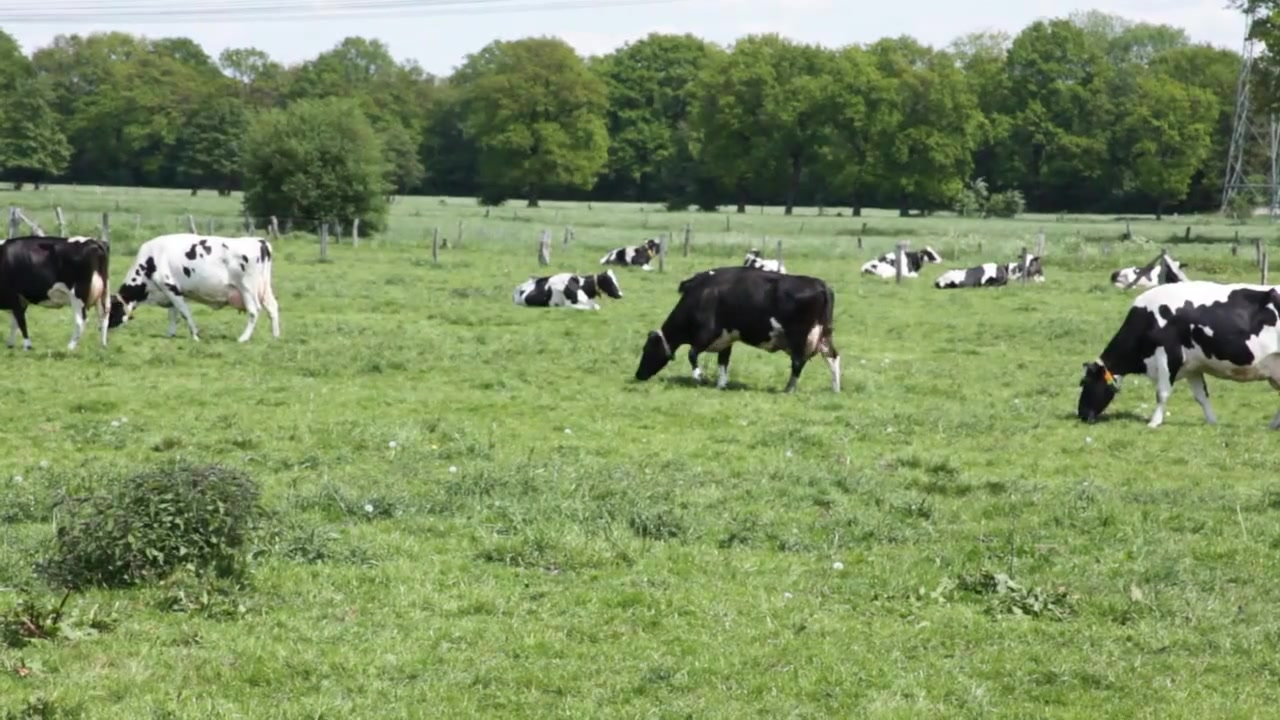cow: (506, 265, 627, 314)
